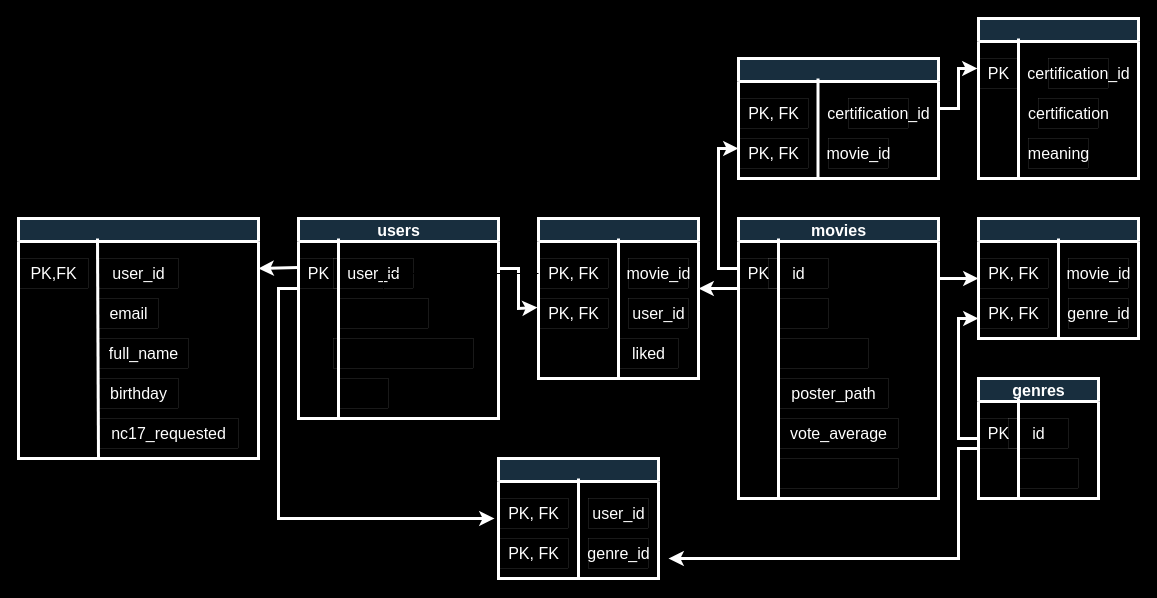
Image size: 1157x598. Some labels were removed from this diagram. The box of each missing label's shape, as (x1, y1, x2, y2) in pixels:
certifications: (976, 16, 1140, 180)
do_not_show: (778, 458, 898, 488)
movies_certifications: (736, 56, 940, 180)
movies_genres: (976, 216, 1140, 340)
movies_users: (536, 216, 700, 380)
name: (1018, 458, 1078, 488)
overview: (778, 338, 868, 368)
password_hash: (333, 338, 473, 368)
role: (338, 378, 388, 408)
title: (778, 298, 828, 328)
username: (338, 298, 428, 328)
users_genres: (496, 456, 660, 580)
users_info: (16, 216, 260, 460)
